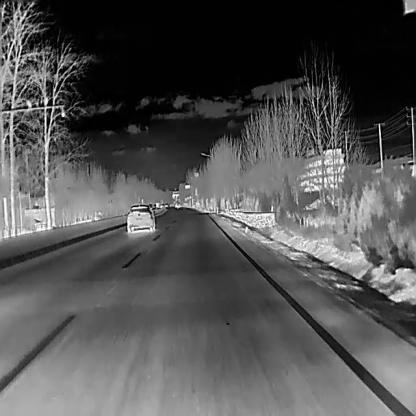car: (127, 203, 155, 232), (174, 202, 180, 208), (156, 202, 160, 207), (164, 203, 168, 207), (160, 203, 162, 207)
